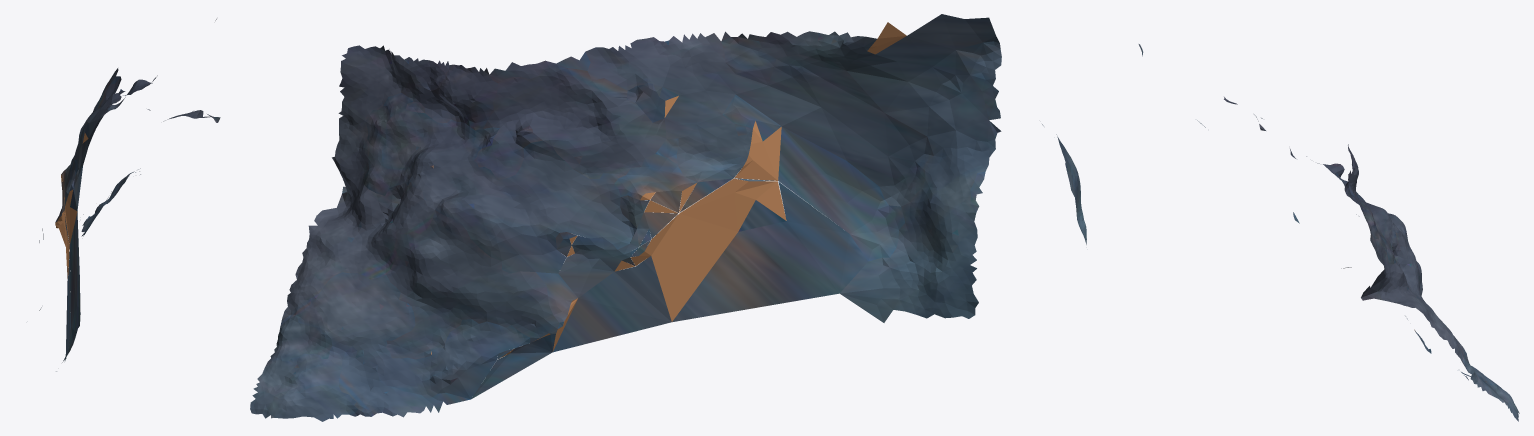
File: tile_0068.gltf
3 views of the same model, side by side, from view 1: azimuth 30°, elevation 25°; view 2: azimuth 150°, elevation 25°; view 3: azimuth 270°, elevation 25° (orthographic). The views are drawn at different scales.
Parts seen in each view (by area): view 1: defaultobject; view 2: defaultobject; view 3: defaultobject.
Part boxes in pixels (x1=…): defaultobject: x1=39, y1=19, x2=220, y2=371; defaultobject: x1=250, y1=14, x2=1001, y2=421; defaultobject: x1=1042, y1=44, x2=1519, y2=421.
Size of the model in its own units: 0.5472 by 0.3631 by 0.6339.
2 materials, 2 textured.
